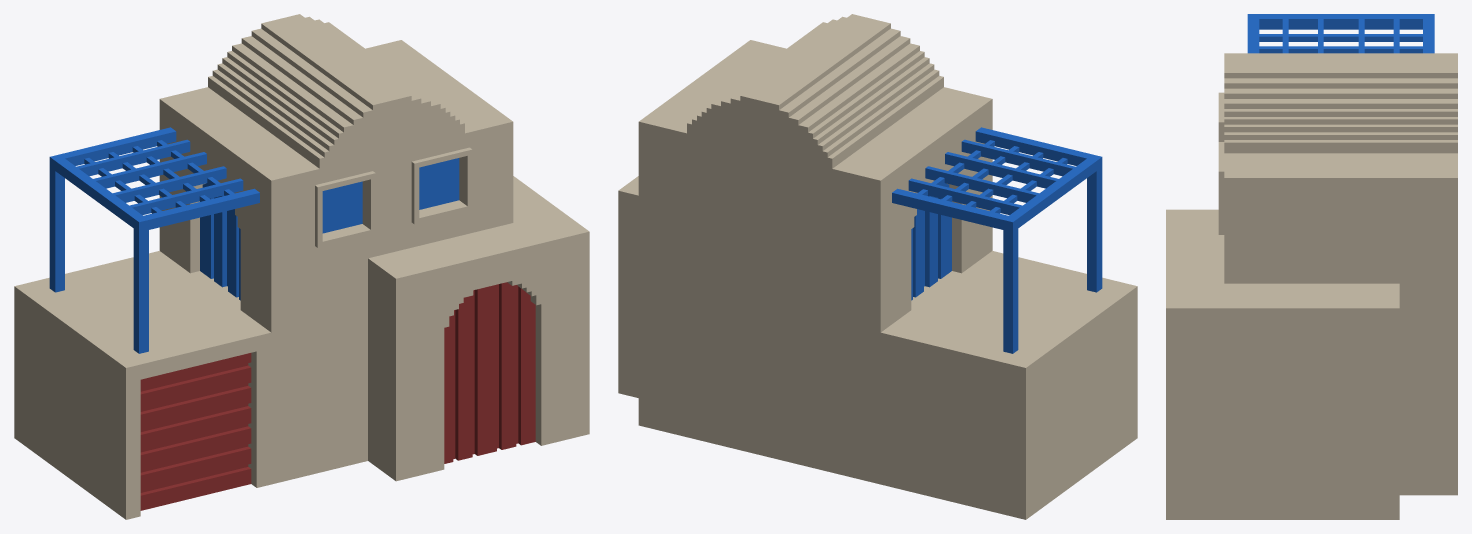
File: Background_C_house_07.FBX
3 views of the same model, side by side, from view 1: azimuth 30°, elevation 25°; view 2: azimuth 150°, elevation 25°; view 3: azimuth 270°, elevation 25° (orthographic). The views are drawn at different scales.
Parts seen in each view (by area): view 1: Background_C-4; view 2: Background_C-4; view 3: Background_C-4.
Part boxes in pixels (<box>): Background_C-4: <box>14,14,589,519</box>; Background_C-4: <box>618,14,1137,519</box>; Background_C-4: <box>1166,14,1457,519</box>.
Bounding box in the file's own units: 9 × 7 × 5.
1 material, 1 textured.
